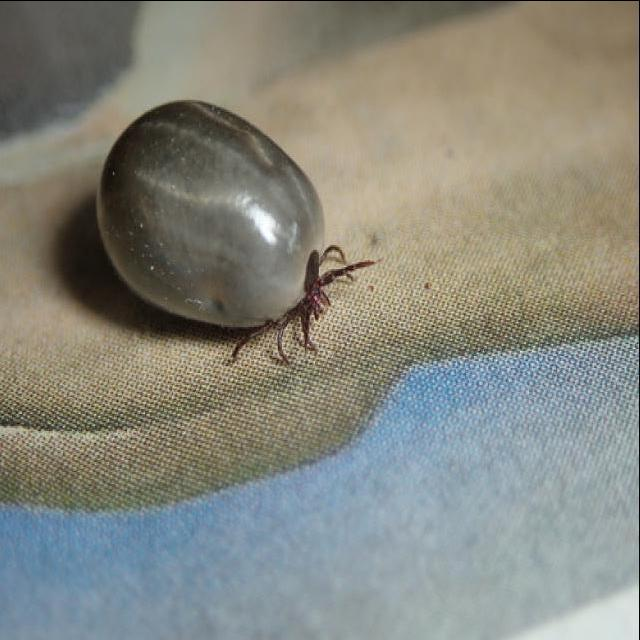Ixodes Ricinus-F-Fed: (99, 99, 375, 364)
